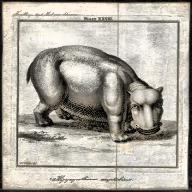boar: (27, 45, 163, 143)
